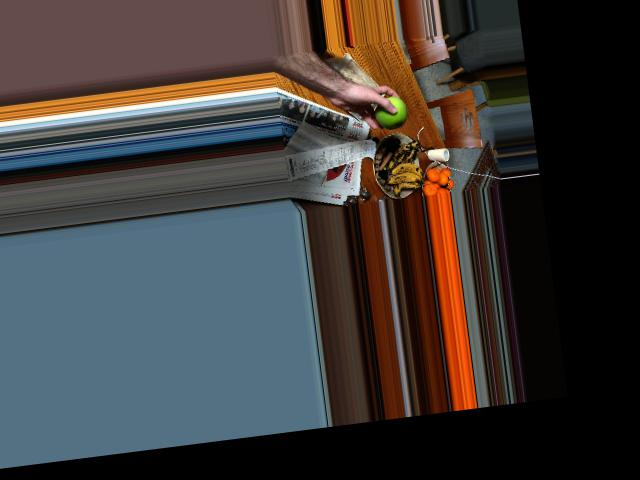apple: (370, 98, 411, 131)
